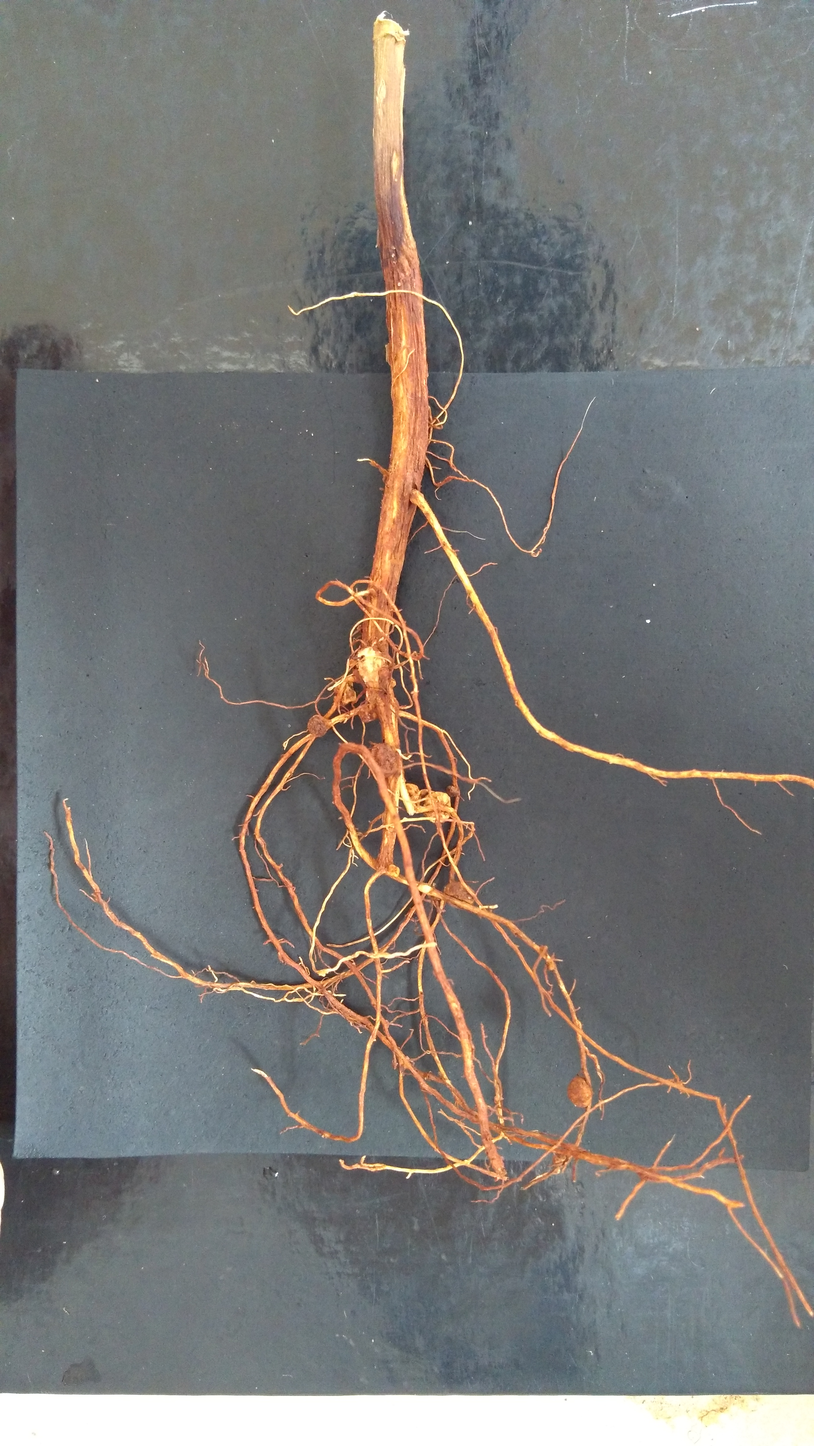nodule: (355, 646, 396, 704), (369, 742, 398, 782), (419, 789, 451, 824), (444, 880, 475, 911), (566, 1075, 593, 1108), (333, 676, 357, 706), (307, 714, 331, 739), (403, 783, 422, 812), (358, 699, 377, 723), (447, 785, 460, 798), (387, 864, 400, 877), (347, 659, 357, 667), (547, 961, 555, 971), (397, 282, 402, 287), (326, 990, 332, 994)
